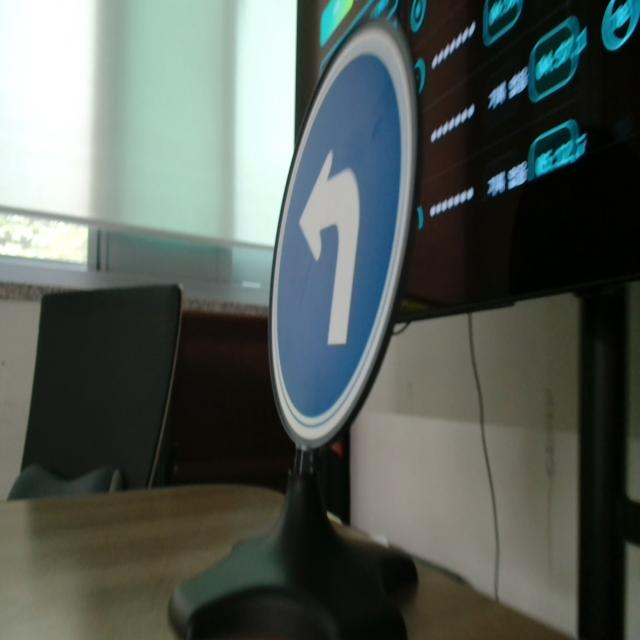left_direction: (260, 23, 416, 446)
